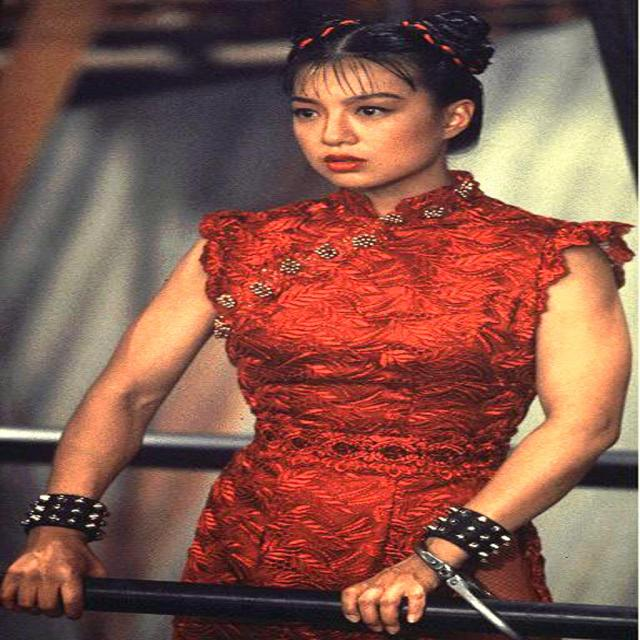Face: (274, 54, 482, 192)
